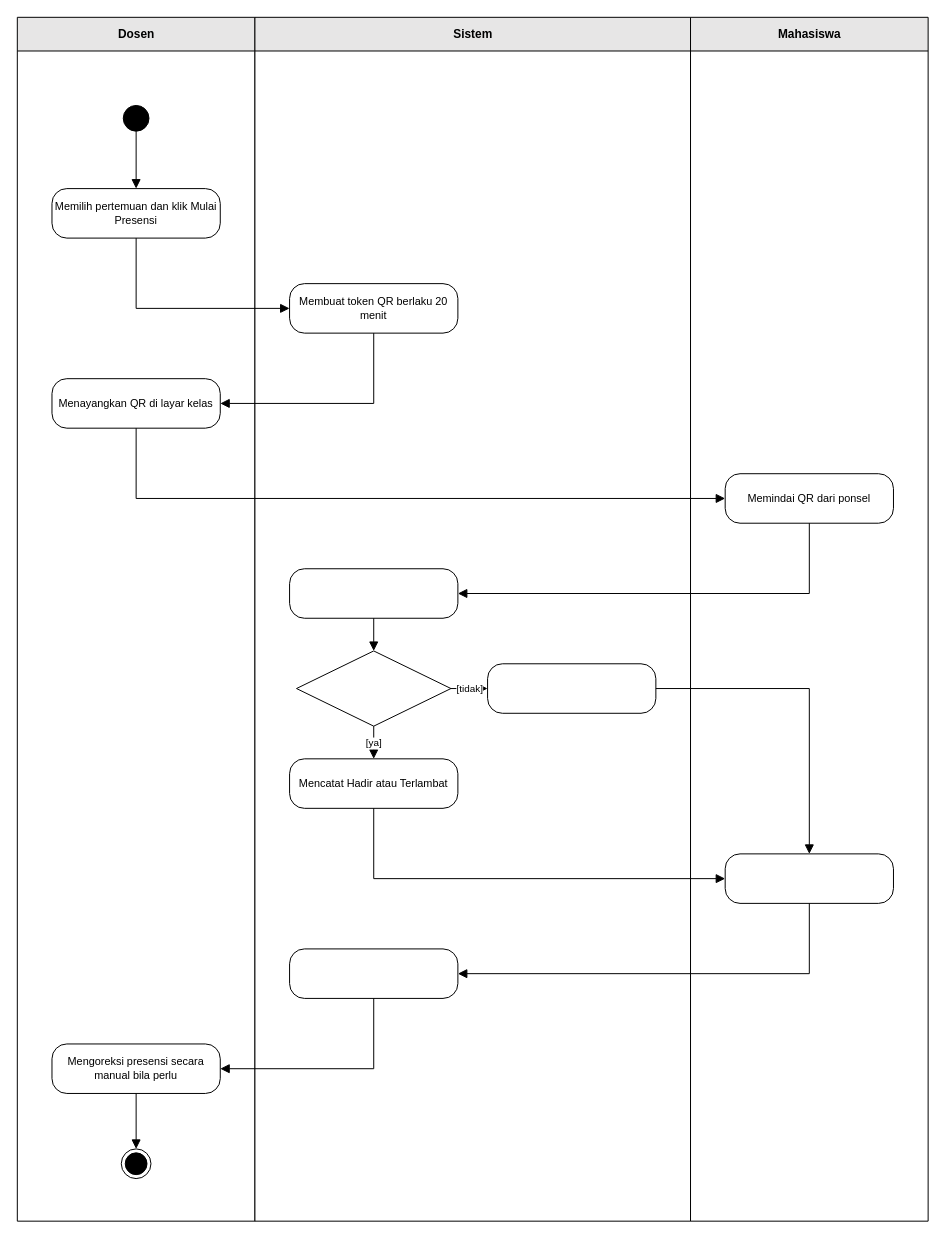
Image size: 945x1238. Some labels were removed from this diagram. Each missing label, with the centre of its shape:
"Lolos?" belongs at point 373,688.
"Melihat hasil presensi" belongs at point 808,878.
"Mencatat log dan kode alasan gagal" belongs at point 571,688.
"Menjalankan 8 pemeriksaan berurutan" belongs at point 373,593.
"Menutup sesi saat waktu habis, menandai Tidak Hadir" belongs at point 373,973.
